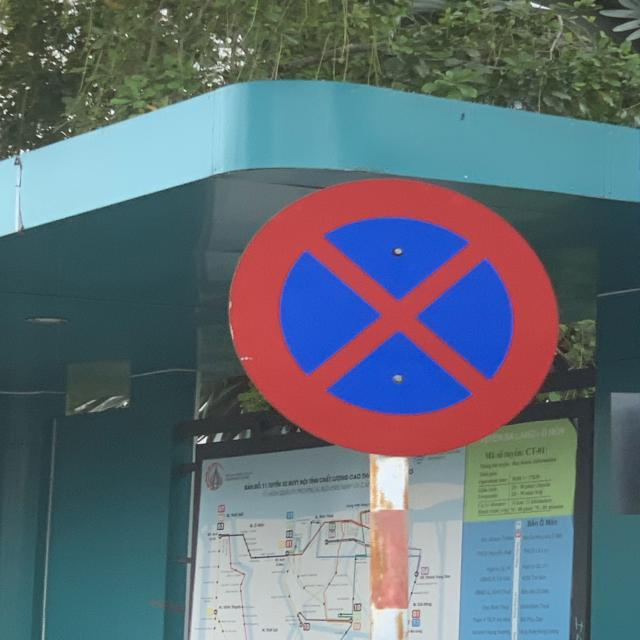Cam_Dung_Va_Dau_Xe: (224, 175, 560, 454)
